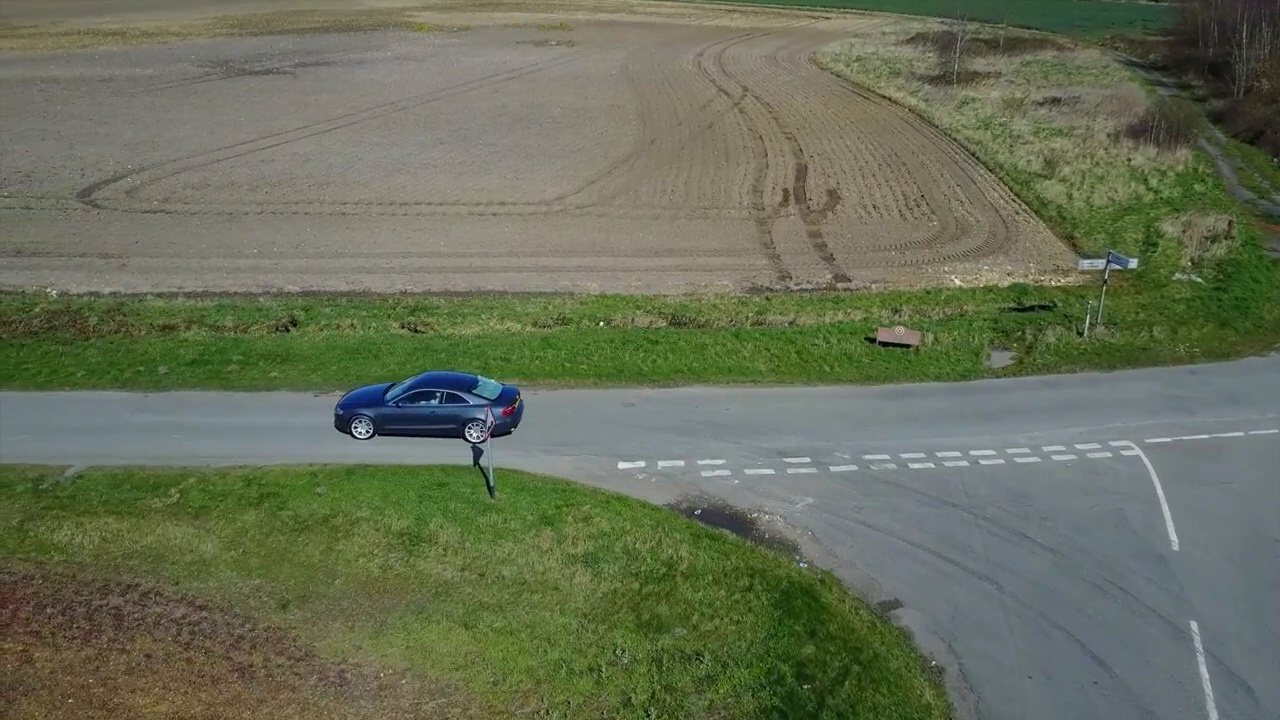araba: (328, 368, 528, 445)
